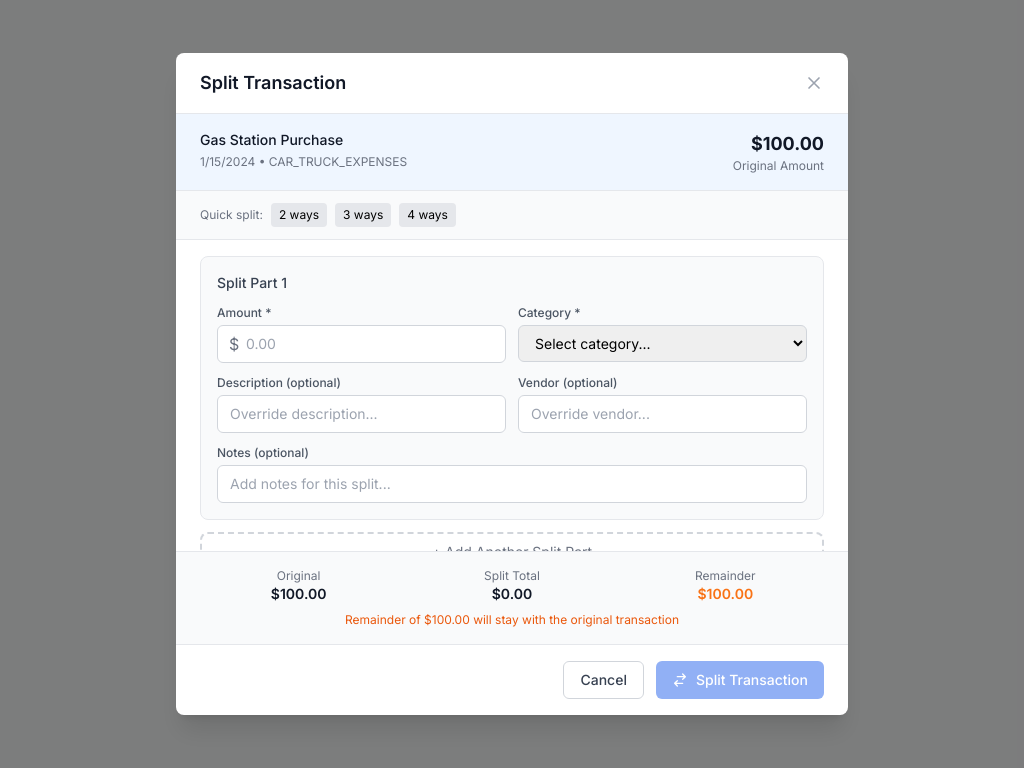
Test: SplitTransactionModal › quick split buttons › should set 3 split parts when clicking "3 ways"
This screenshot has width=1024, height=768.
Click the button "3 ways" at (363, 215), box [335,203,391,227]
(page scrolled)
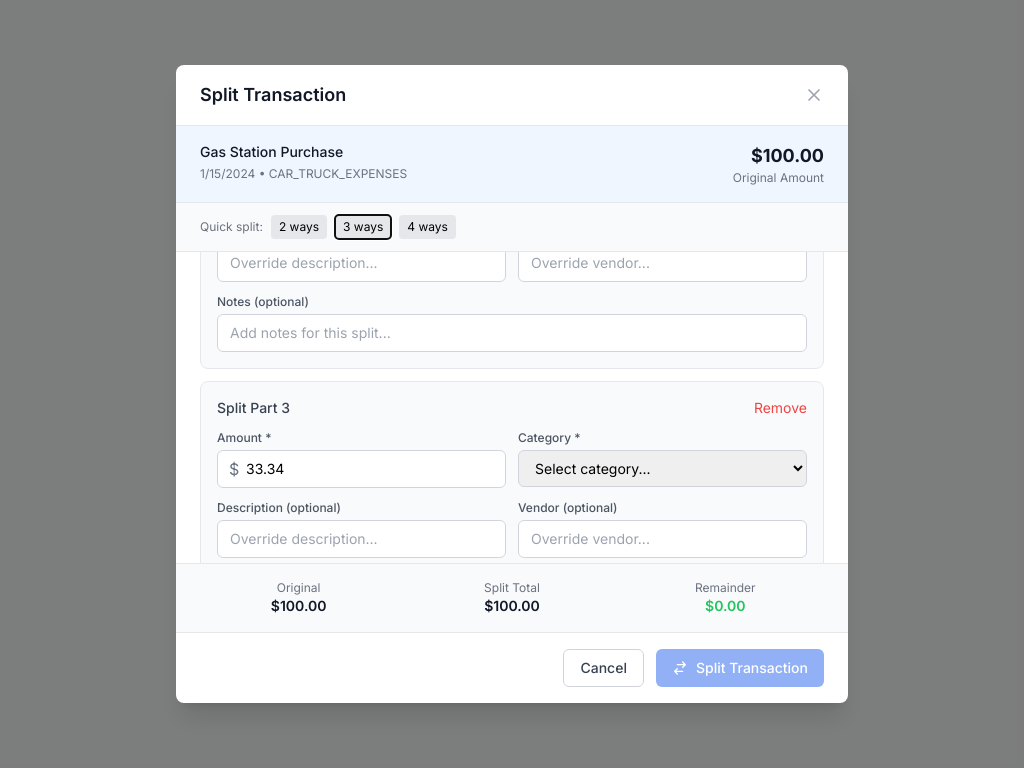
Result: the text "Split Part 3" is shown at [217,398,290,418]
